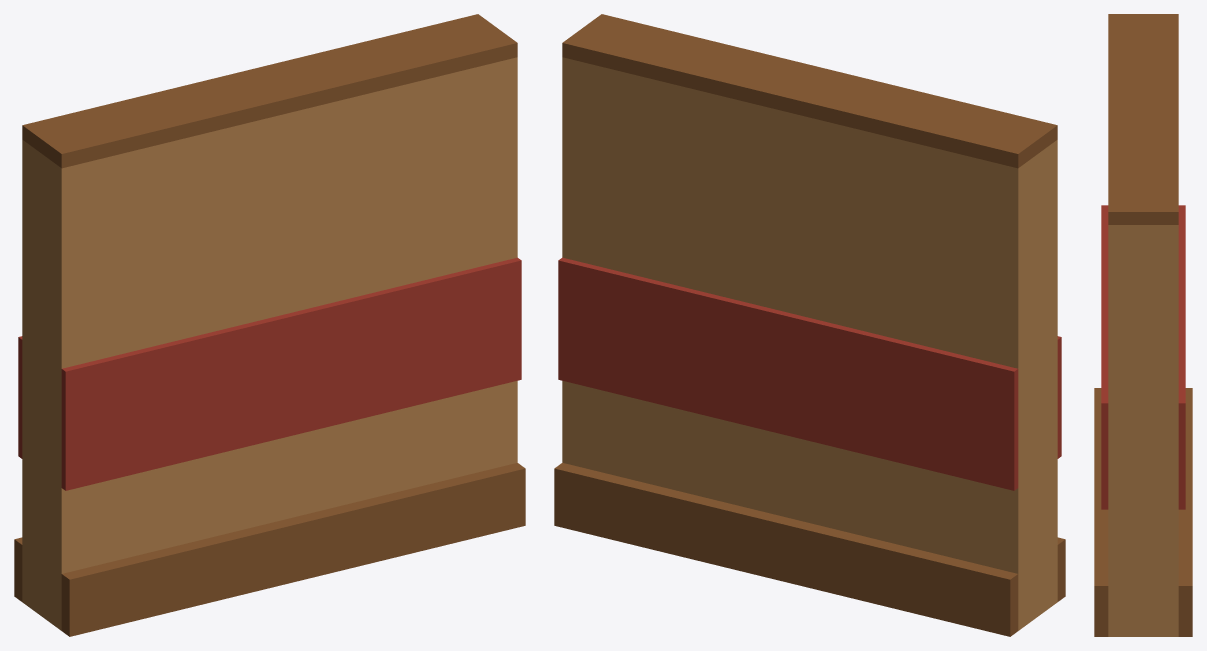
File: partition-full.glb
3 views of the same model, side by side, from view 1: azimuth 30°, elevation 25°; view 2: azimuth 150°, elevation 25°; view 3: azimuth 270°, elevation 25° (orthographic). The views are drawn at different scales.
Parts seen in each view (by area): view 1: partition-full; view 2: partition-full; view 3: partition-full.
Boxes of the visible parts, bbox=[...] form: partition-full: bbox=[14, 14, 525, 636]; partition-full: bbox=[554, 14, 1065, 636]; partition-full: bbox=[1094, 14, 1192, 636].
Bounding box in the file's own units: 1 × 1 × 0.21.
1 material, 1 textured.
